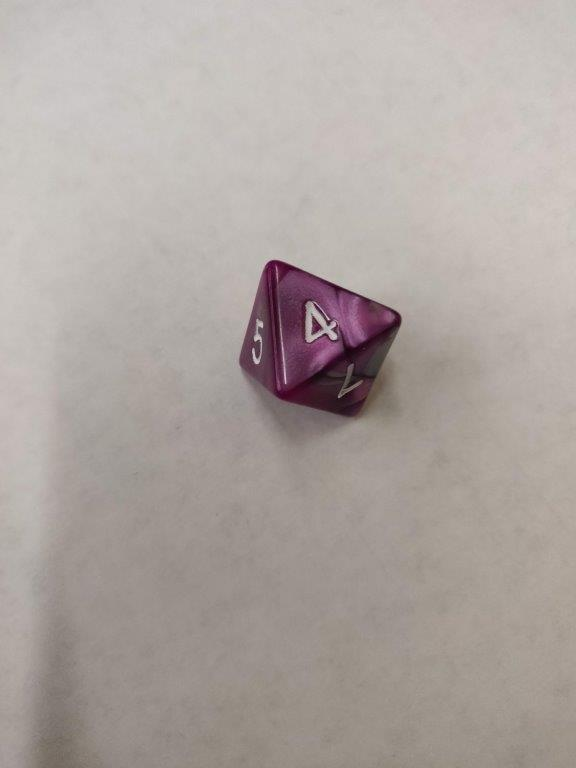d8-4: (233, 252, 403, 424)
